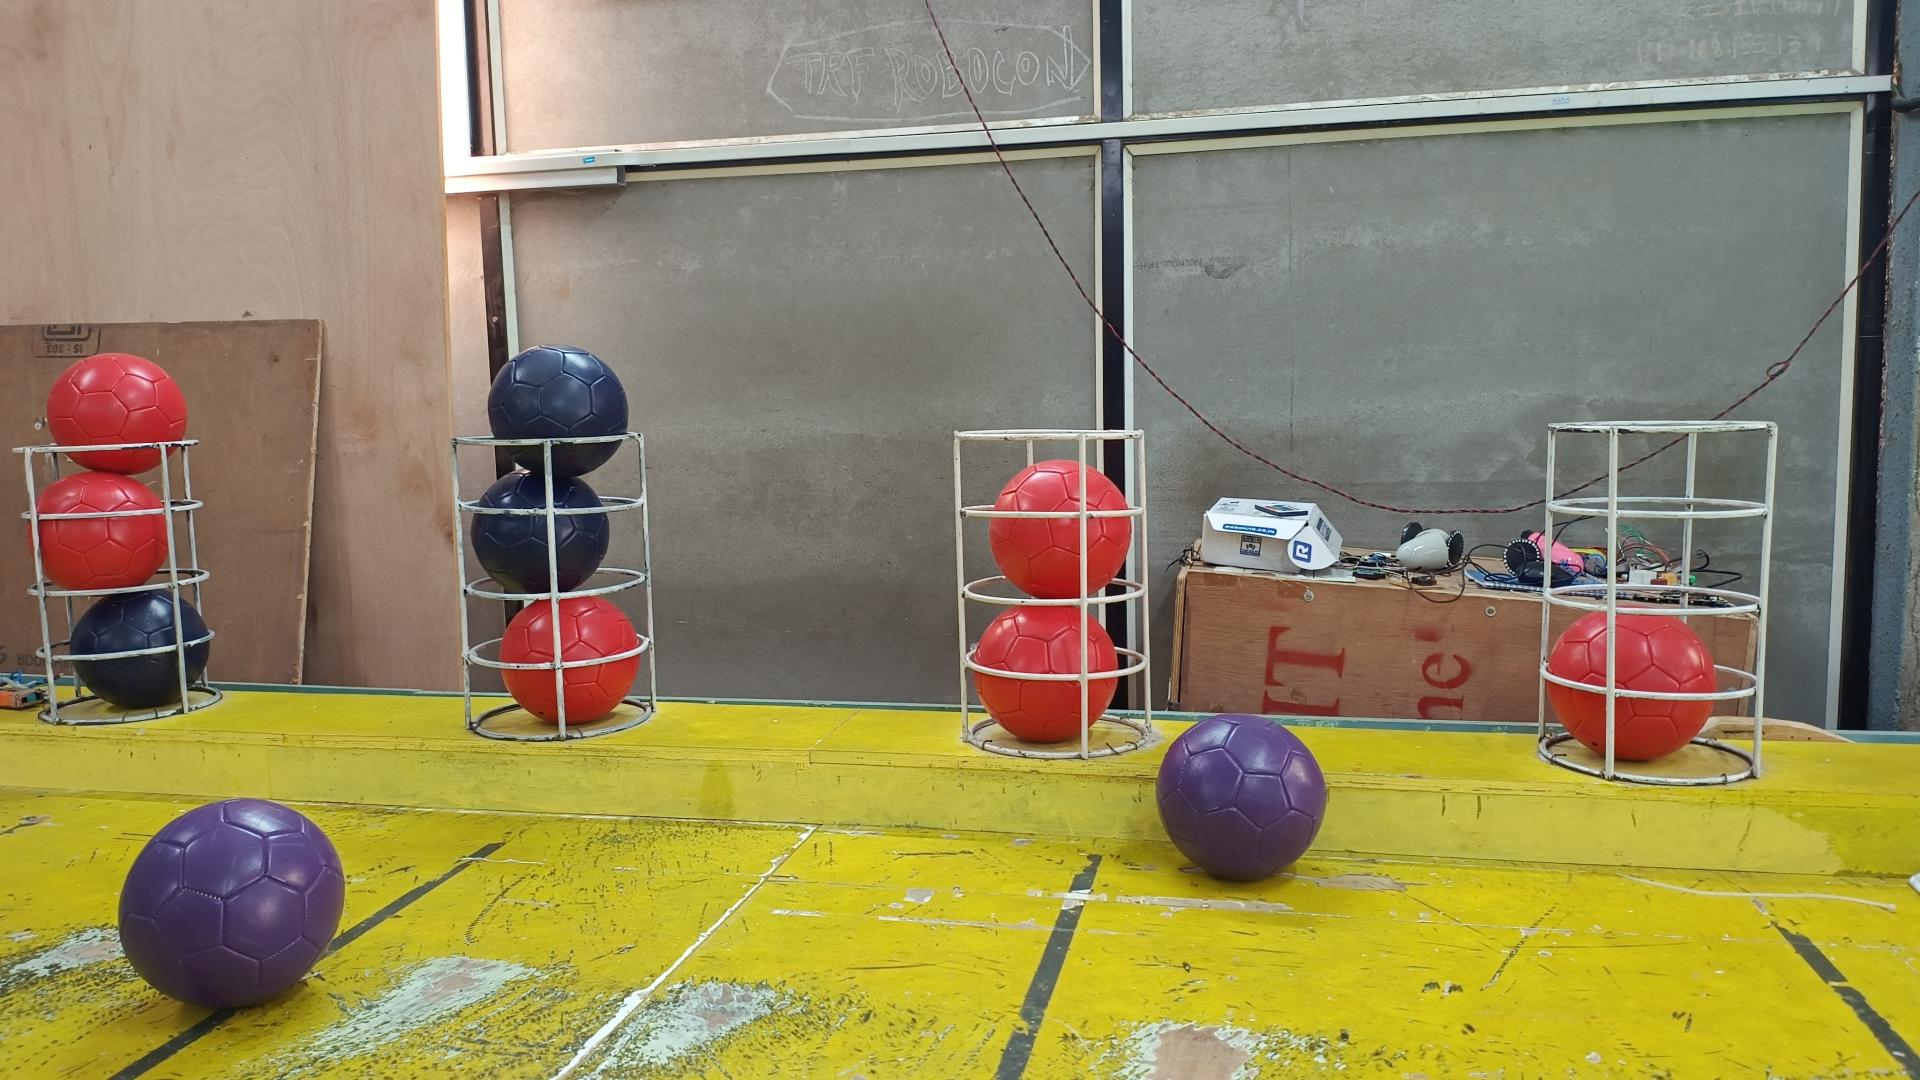dhoka: (484, 345, 622, 476), (63, 585, 206, 708), (465, 468, 604, 592)
laale: (1542, 608, 1714, 757), (968, 604, 1117, 742), (986, 458, 1129, 596), (495, 592, 637, 724), (46, 352, 189, 476), (28, 473, 173, 593)
